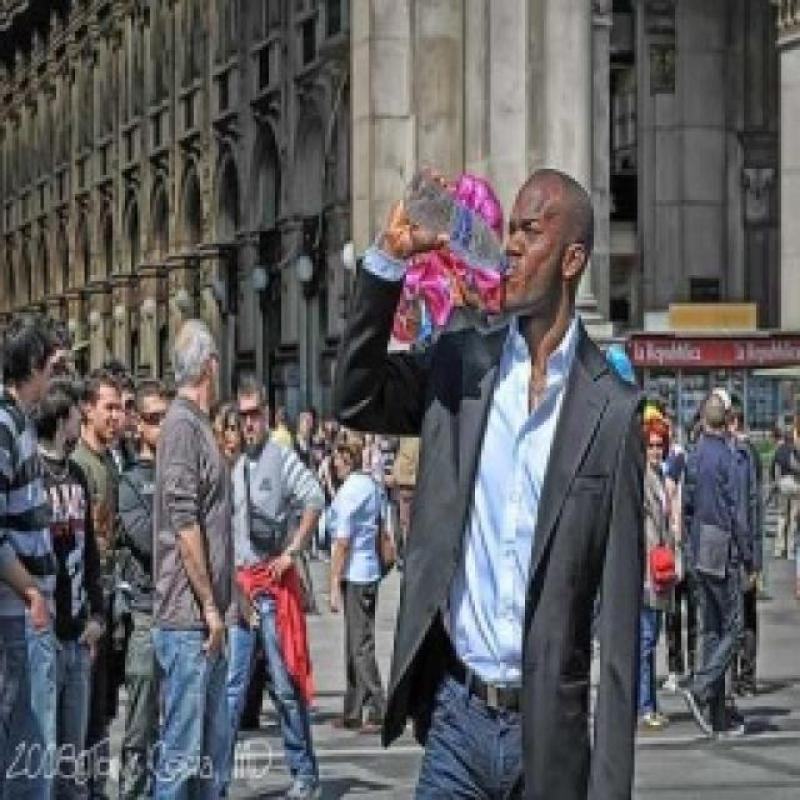botella: (403, 175, 512, 285)
